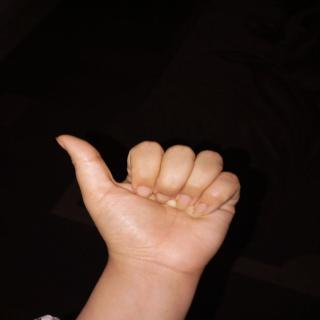DAD: (48, 119, 259, 281)
